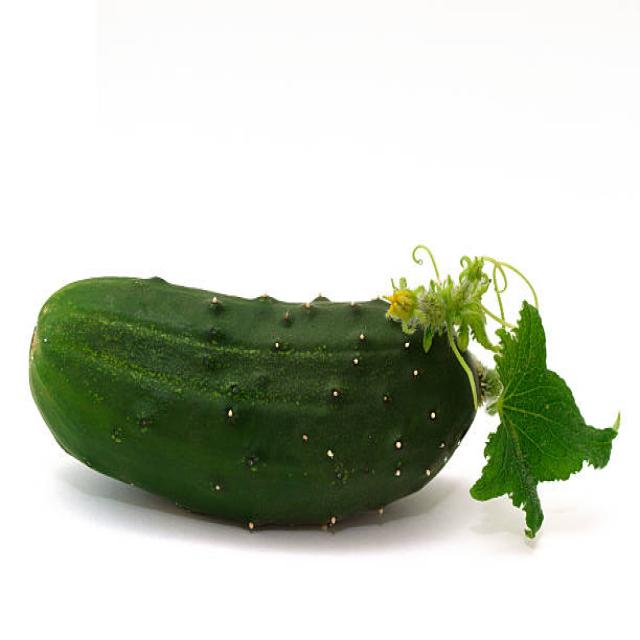cucumber: (29, 276, 480, 528)
